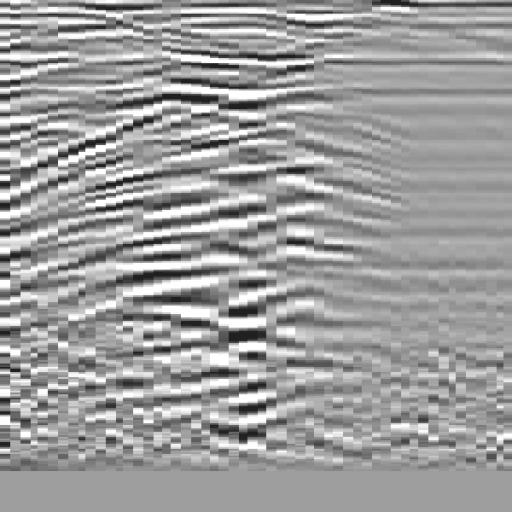metalic: (15, 39, 380, 462)
